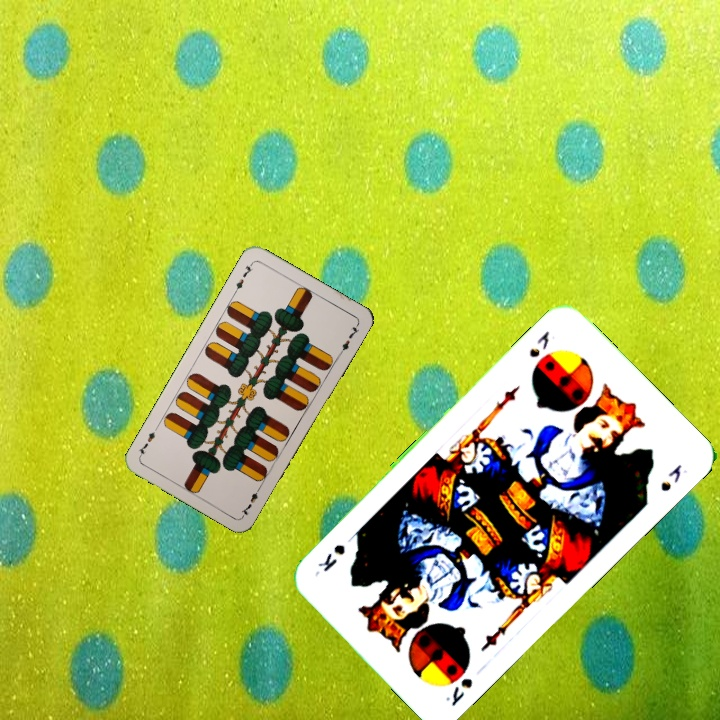E7: (237, 481, 264, 519), (230, 258, 256, 296)
SK: (441, 674, 476, 709), (525, 326, 552, 361)
